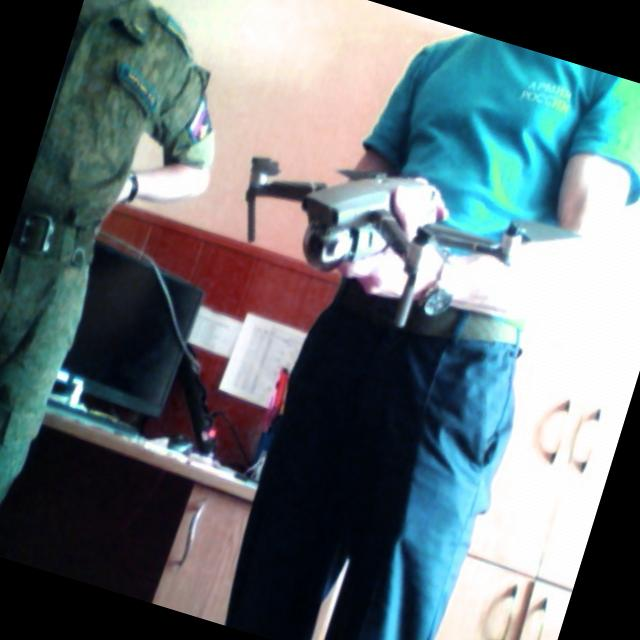drone: (194, 95, 560, 354)
